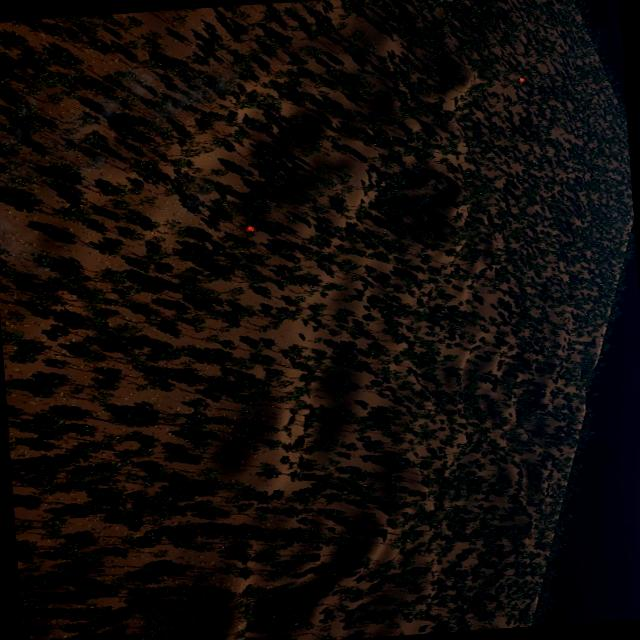fire: (243, 225, 254, 232), (518, 78, 524, 82)
smoke: (0, 71, 242, 192)
